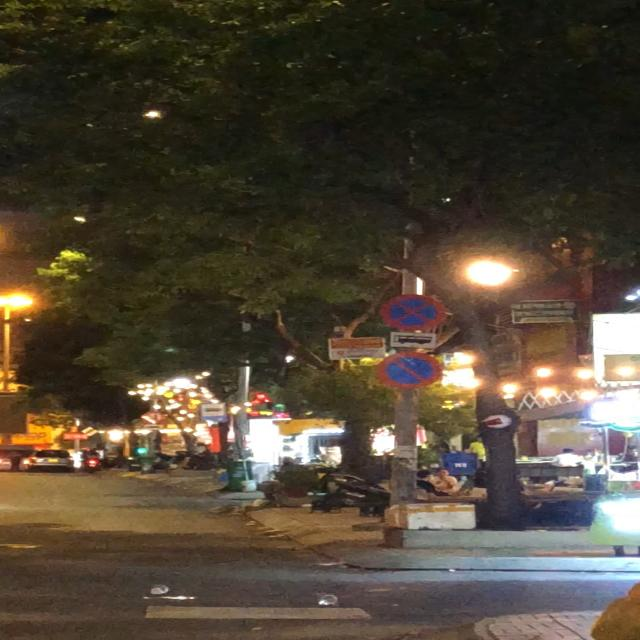Bien bao cam do xe: (376, 350, 448, 392)
Bien bao cam dung xe va do xe: (376, 292, 448, 334)
